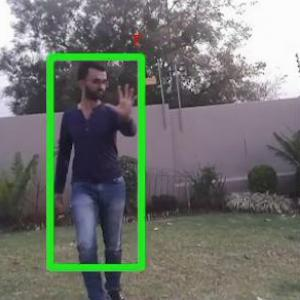follow_hand: (104, 75, 143, 122)
